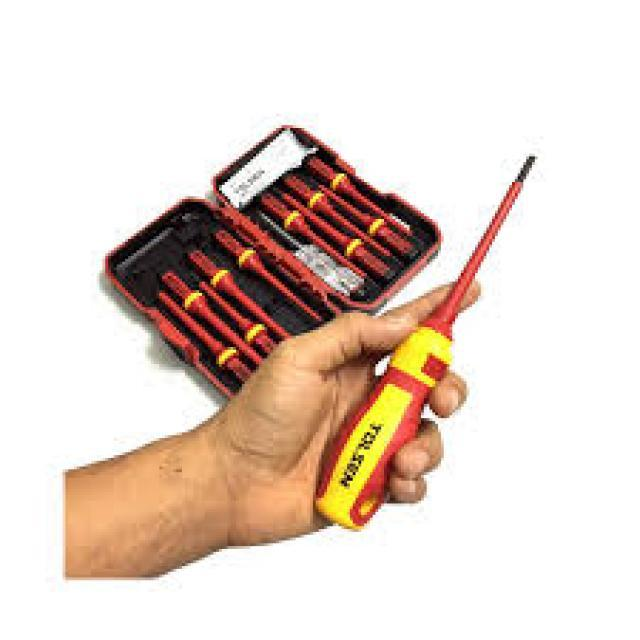screwdriver: (310, 145, 540, 546)
